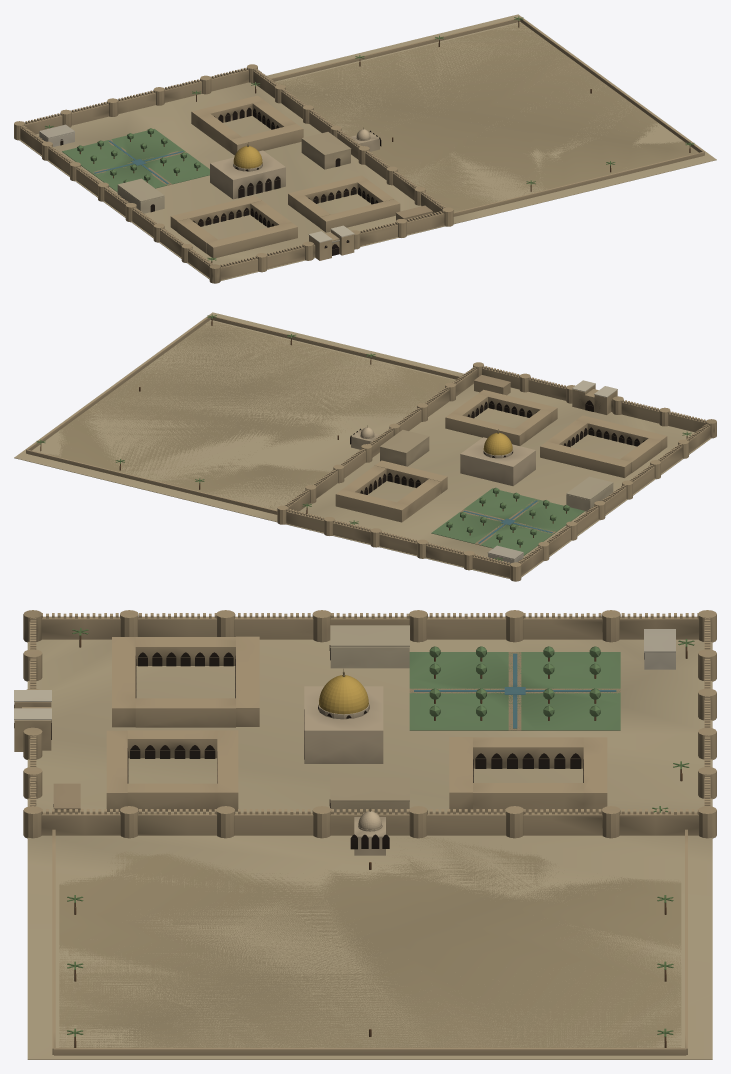
Rendered from tulunid-palace.glb.
3 views of the same model, one above another, from view 1: azimuth 30°, elevation 25°; view 2: azimuth 150°, elevation 25°; view 3: azimuth 270°, elevation 25° (orthographic). The views are drawn at different scales.
Visible parts, largest first — view 1: p0_ground, p2_palace, p1_walls, p3_domes; view 2: p0_ground, p2_palace, p1_walls, p3_domes; view 3: p0_ground, p2_palace, p1_walls, p3_domes.
Part boxes in pixels (x1,y1,x2,y2): p0_ground: (19, 14, 716, 280); p2_palace: (39, 95, 432, 258); p1_walls: (14, 17, 704, 283); p3_domes: (45, 16, 694, 263); p0_ground: (14, 312, 711, 578); p2_palace: (335, 375, 667, 563); p1_walls: (26, 315, 716, 581); p3_domes: (36, 314, 691, 560); p0_ground: (27, 639, 712, 1059); p2_palace: (53, 625, 675, 812); p1_walls: (14, 610, 716, 1055); p3_domes: (67, 628, 694, 1047).
Size of the model in its own units: 382 by 31.13 by 267.
